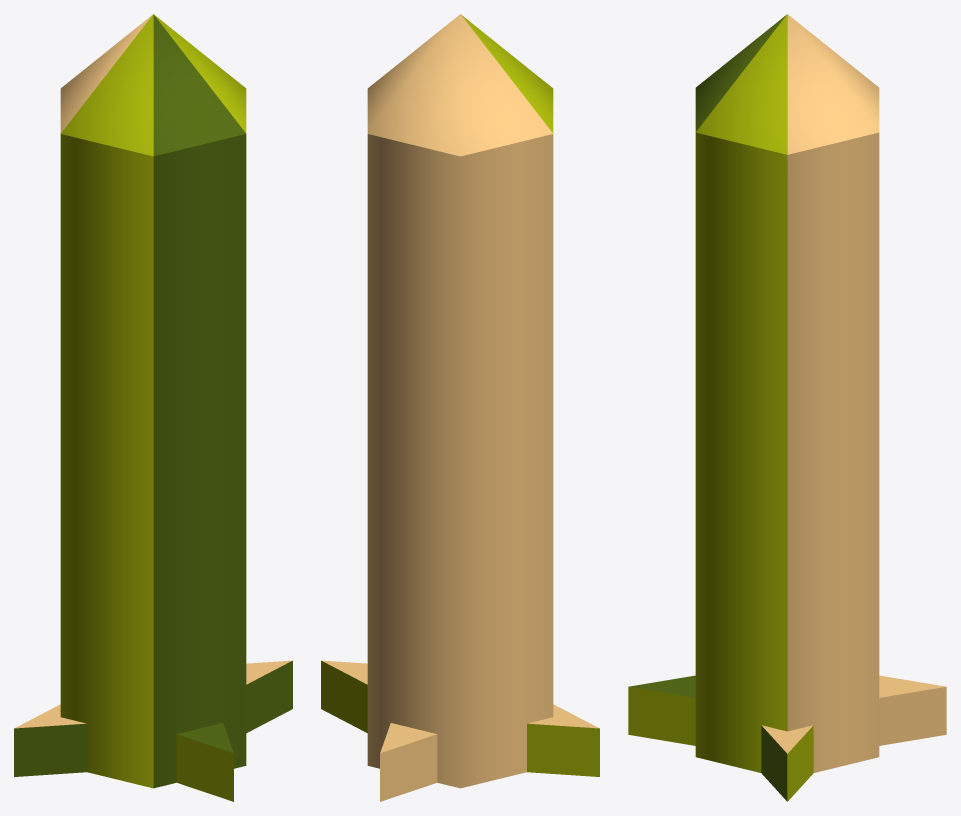
The model's file is Solo.MissileMesh.AcidRain.glb.
3 views of the same model, side by side, from view 1: azimuth 30°, elevation 25°; view 2: azimuth 150°, elevation 25°; view 3: azimuth 270°, elevation 25° (orthographic).
Parts seen in each view (by area): view 1: Solo.MissileMesh.AcidRain; view 2: Solo.MissileMesh.AcidRain; view 3: Solo.MissileMesh.AcidRain.
Part boxes in pixels (x1,y1,x2,y2): Solo.MissileMesh.AcidRain: [14, 14, 292, 801]; Solo.MissileMesh.AcidRain: [321, 14, 599, 801]; Solo.MissileMesh.AcidRain: [628, 14, 946, 801].
Size of the model in its own units: 0.6 by 1.5 by 0.6.
Materials: 1 (1 with a texture image).
